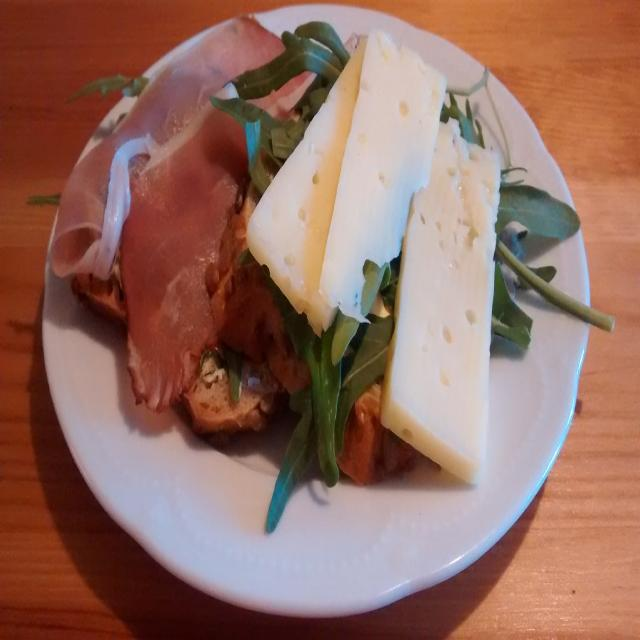Cheese: (381, 114, 503, 480), (316, 19, 451, 323), (239, 31, 370, 337), (316, 25, 449, 326), (243, 36, 370, 340)
